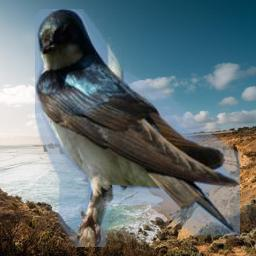Swallow: (35, 9, 240, 247)
